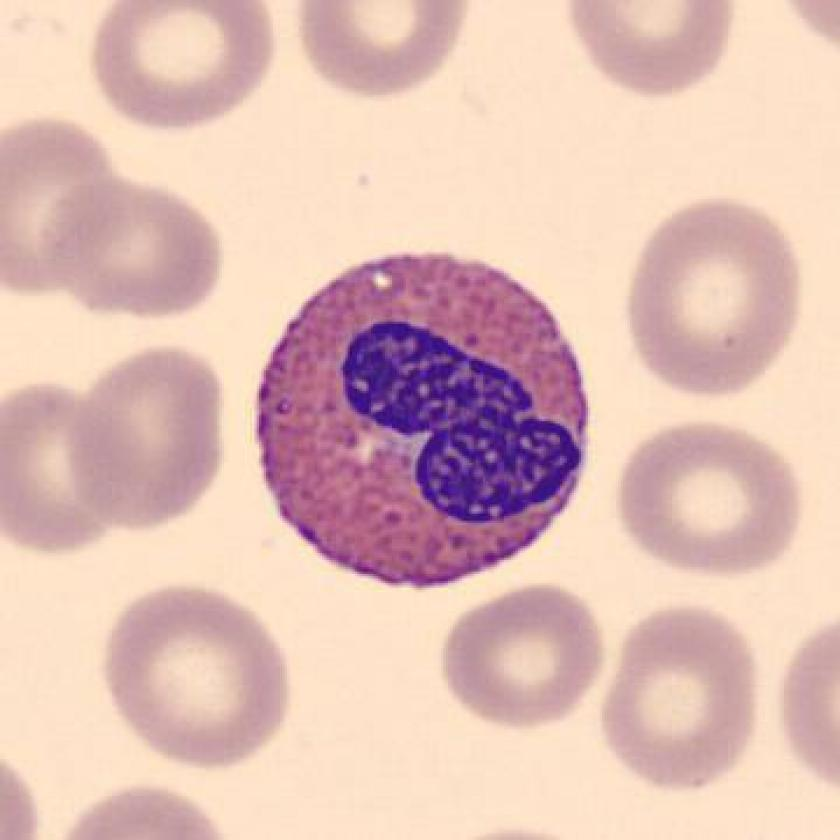eosinophil: (241, 237, 608, 603)
